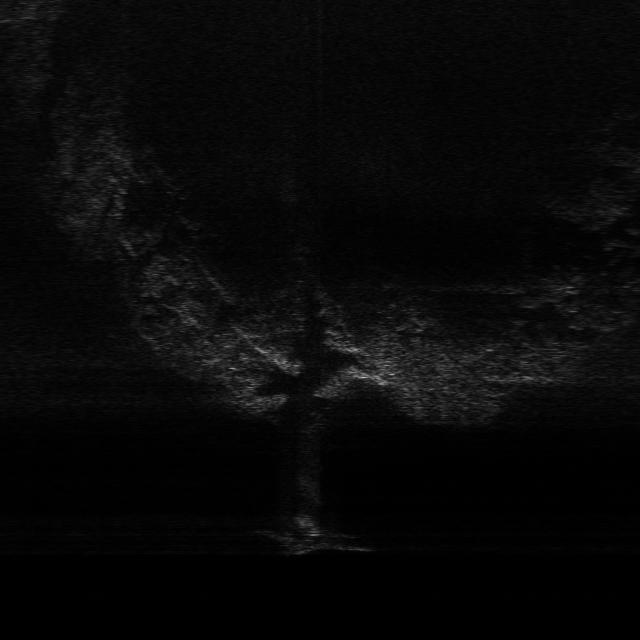plane: (254, 513, 380, 556)
